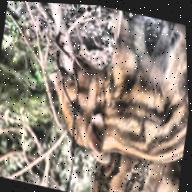boar: (26, 10, 191, 181)
